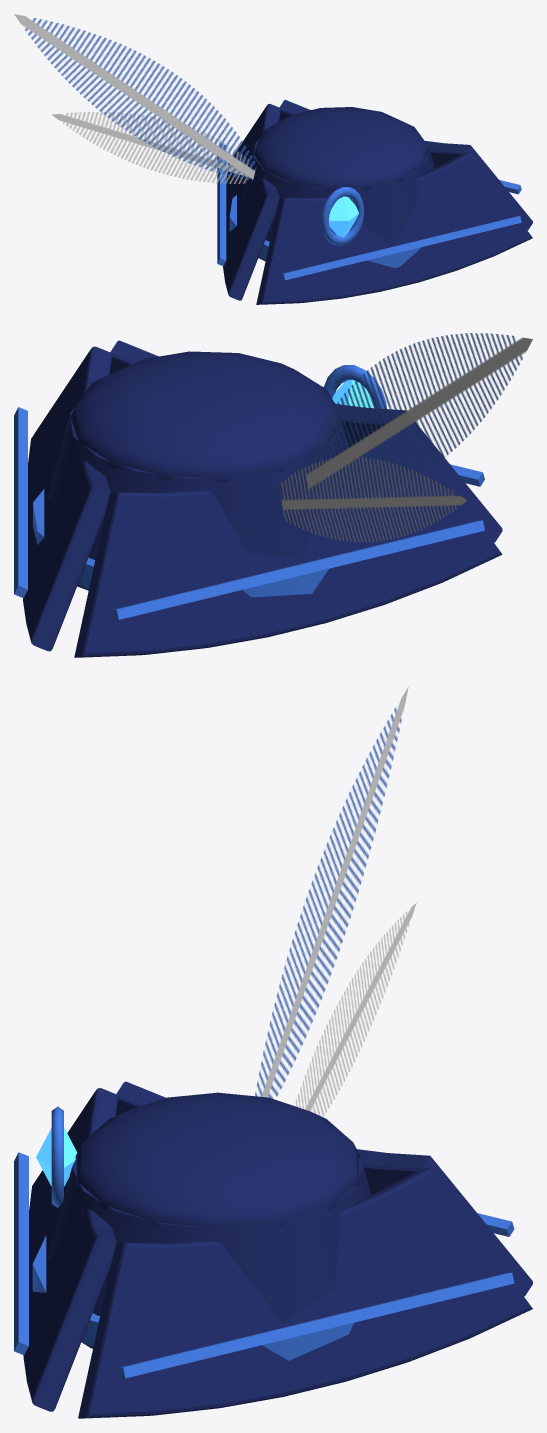
The model's file is hat_eqen1.glb.
The picture shows the model from 3 angles, top to bottom: view 1: azimuth 30°, elevation 25°; view 2: azimuth 150°, elevation 25°; view 3: azimuth 270°, elevation 25°; orthographic projection. The views are drawn at different scales.
Bounding box in the file's own units: 4.13 × 2.41 × 2.68.
Materials: 5 (2 with a texture image).
